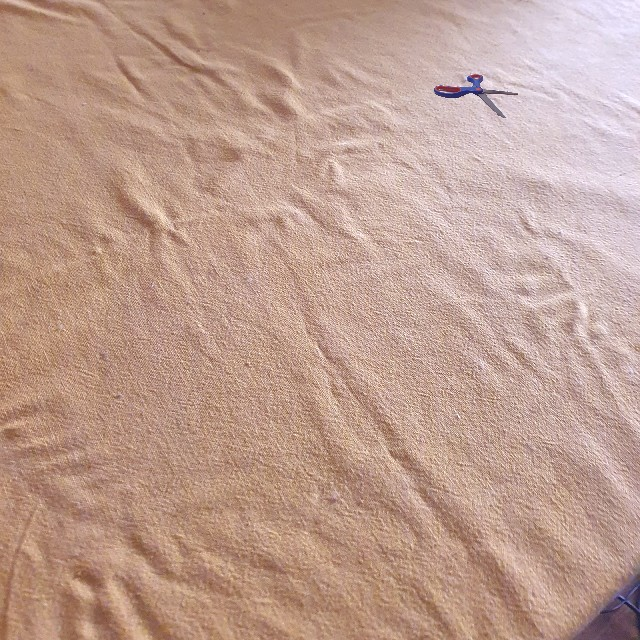scissors: (434, 74, 518, 118)
